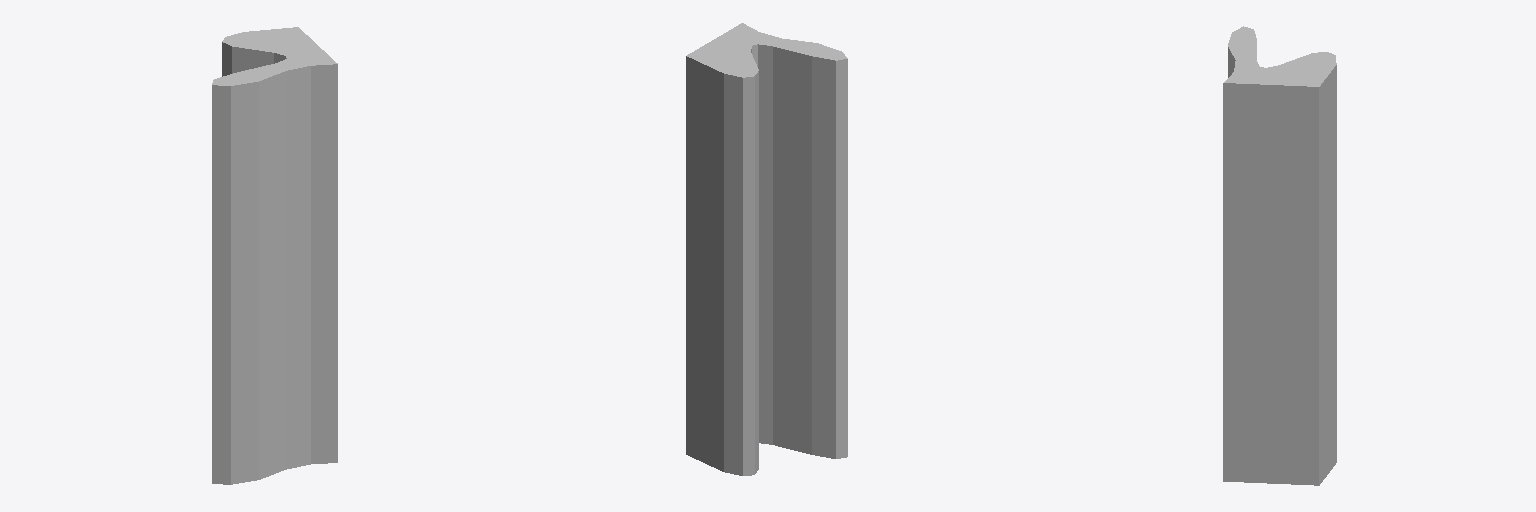
3 renders of one model, left to right at view 1: azimuth 30°, elevation 25°; view 2: azimuth 150°, elevation 25°; view 3: azimuth 270°, elevation 25°, orthographic.
Parts seen in each view (by area): view 1: HT.002_CUCurve.1785; view 2: HT.002_CUCurve.1785; view 3: HT.002_CUCurve.1785.
Boxes of the visible parts, x1=… form: HT.002_CUCurve.1785: x1=212, y1=27, x2=337, y2=484; HT.002_CUCurve.1785: x1=686, y1=23, x2=847, y2=475; HT.002_CUCurve.1785: x1=1223, y1=26, x2=1336, y2=485.
Bounding box in the file's own units: 0.0163 × 0.05 × 0.0129.